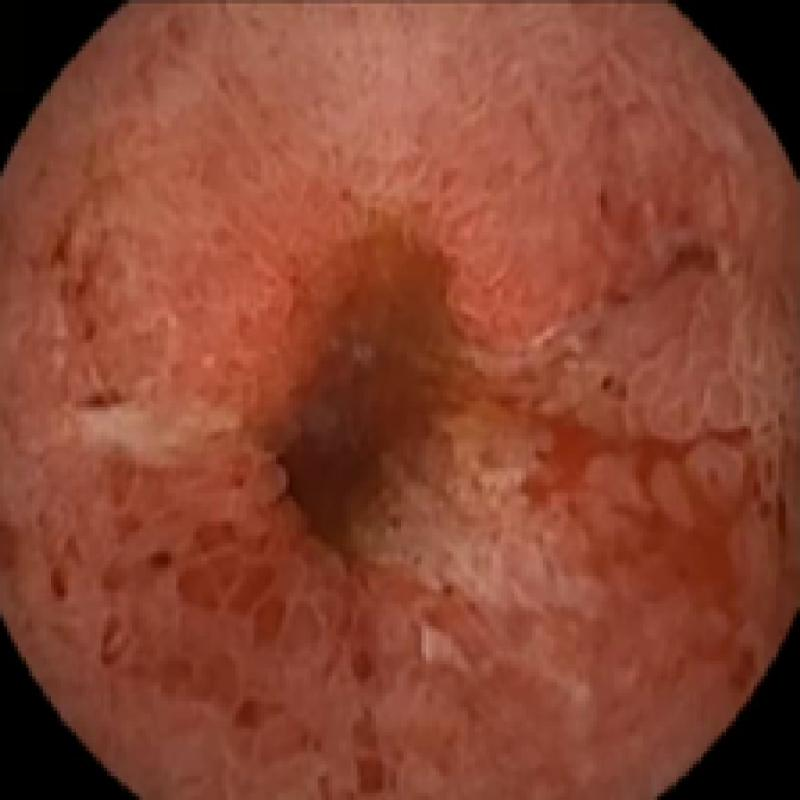bleeding: (218, 228, 786, 693)
